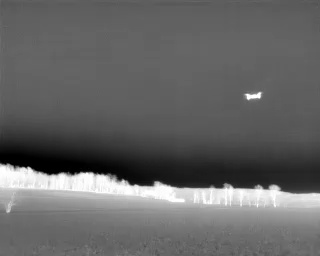DRONE: (241, 87, 267, 106)
